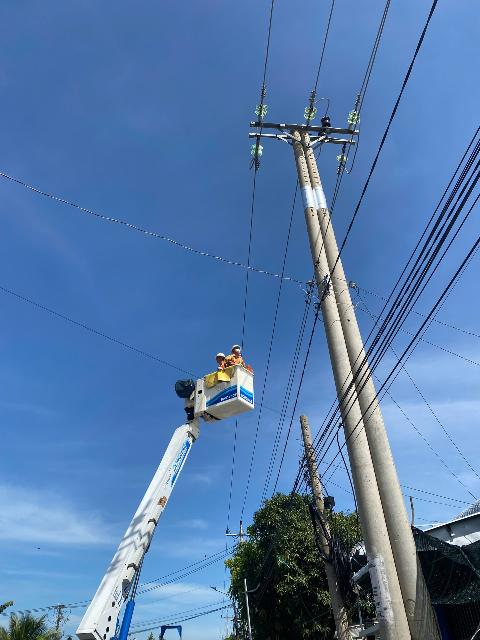gloves: (217, 366, 224, 370)
helmet: (213, 350, 227, 360), (230, 344, 243, 353)
